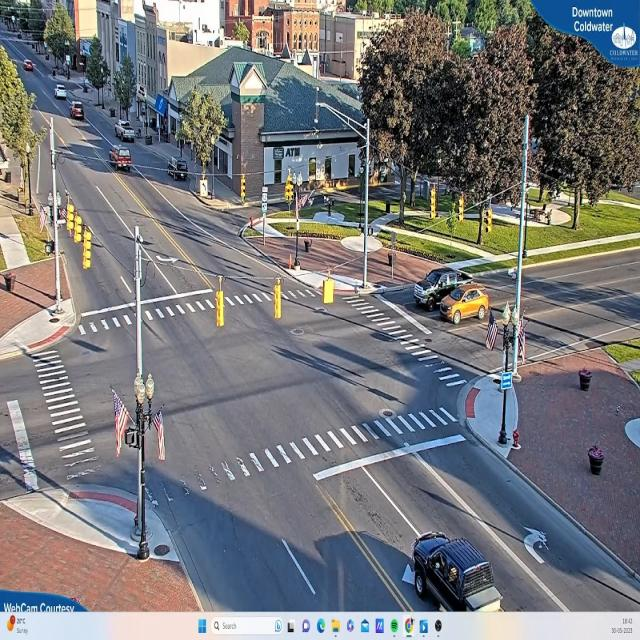car: (408, 533, 503, 613), (440, 283, 489, 325), (109, 147, 133, 173), (116, 122, 135, 143), (69, 103, 85, 124), (24, 60, 35, 73)
